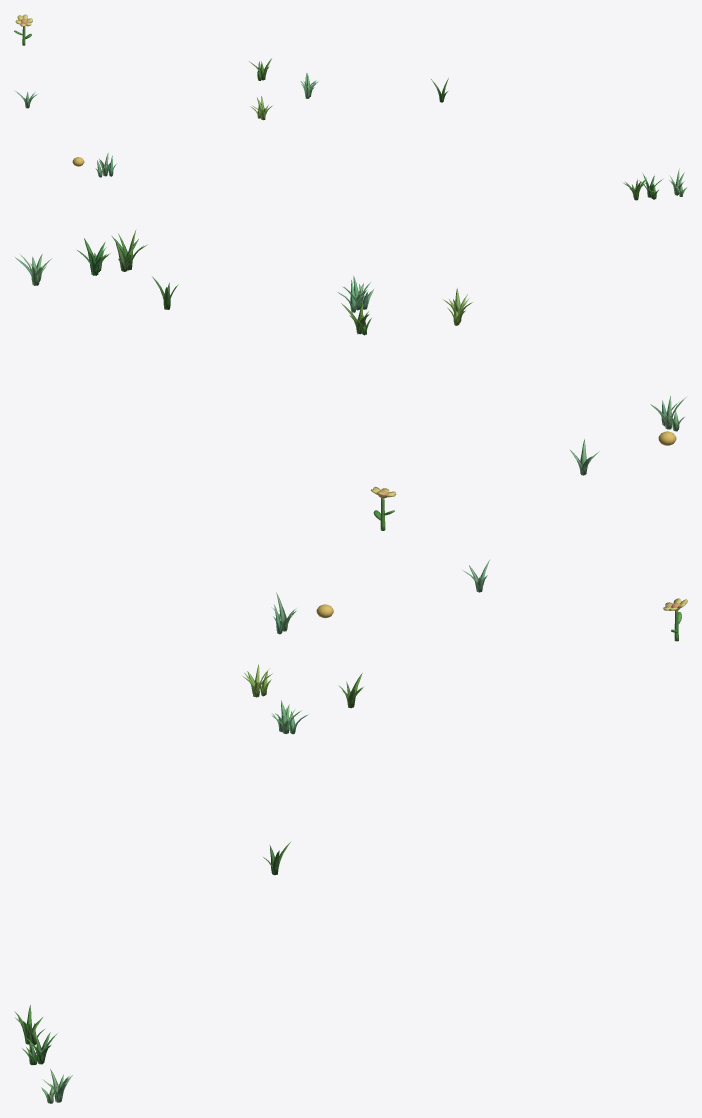
Rendered from W3_FloraRing_8_7.fbx.
3 views of the same model, one above another, from view 1: azimuth 30°, elevation 25°; view 2: azimuth 150°, elevation 25°; view 3: azimuth 270°, elevation 25° (orthographic). The views are drawn at different scales.
Parts seen in each view (by area): view 1: W3_FloraRing_8_7; view 2: W3_FloraRing_8_7; view 3: W3_FloraRing_8_7.
Part boxes in pixels (x1,y1,x2,y2): W3_FloraRing_8_7: [14, 14, 687, 200]; W3_FloraRing_8_7: [15, 229, 687, 530]; W3_FloraRing_8_7: [14, 560, 687, 1103].
Bounding box in the file's own units: 3.29 × 0.8169 × 2.51.
